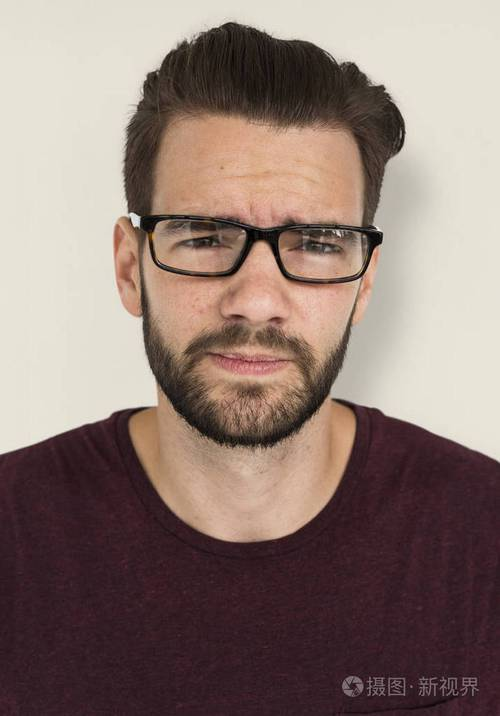no_mask: (132, 98, 368, 449)
